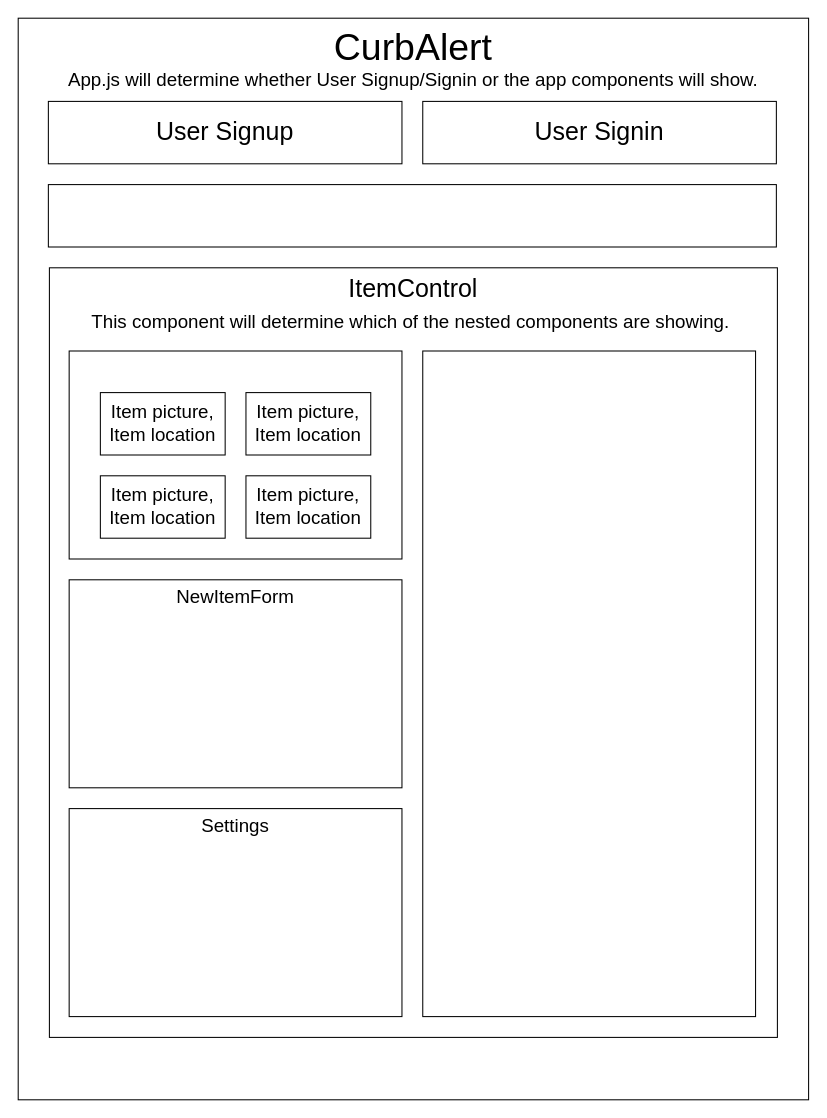
The diagram is 827 pixels wide and 1118 high, and some of its shapes have lost their labels. The box of each missing label's shape, as (x1, y1, x2, y2) in pixels:
Header: (47, 184, 776, 247)
ItemDetail: (422, 350, 756, 1017)
ItemsMap: (68, 350, 402, 559)
